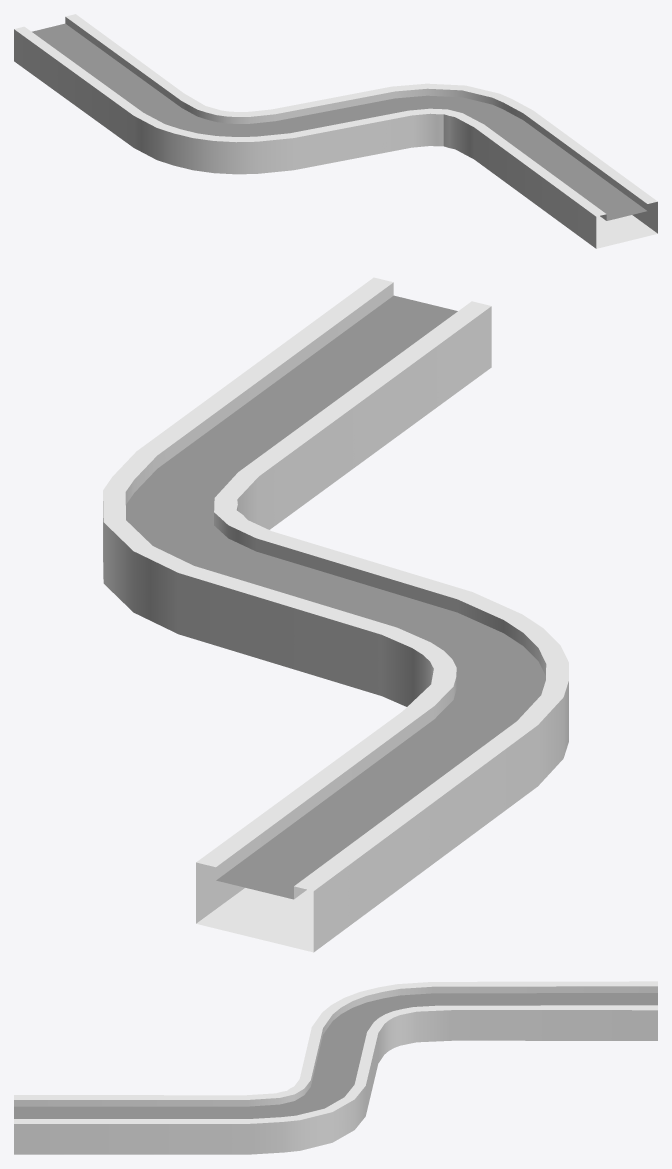
File: rd_left.fbx
3 views of the same model, one above another, from view 1: azimuth 30°, elevation 25°; view 2: azimuth 150°, elevation 25°; view 3: azimuth 270°, elevation 25° (orthographic). The views are drawn at different scales.
Parts seen in each view (by area): view 1: l; view 2: l; view 3: l.
Boxes of the visible parts, x1,y1,x2,y2 form: l: [14, 14, 657, 248]; l: [103, 277, 568, 952]; l: [14, 981, 657, 1154].
Size of the model in its own units: 1209 by 121 by 2311.
